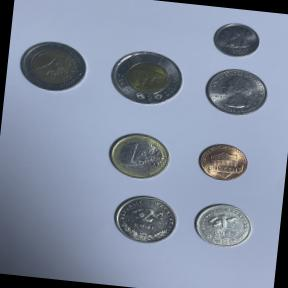1 Euro: (103, 128, 175, 184)
2 Euro: (14, 36, 92, 96)
Canda-10cent-: (209, 19, 266, 62)
Canda-2Dollar-: (105, 46, 188, 110)
Croatia-2Kune-: (108, 190, 183, 250)
US-1cent-: (194, 140, 252, 184)
US-25cent-: (199, 65, 272, 120)
